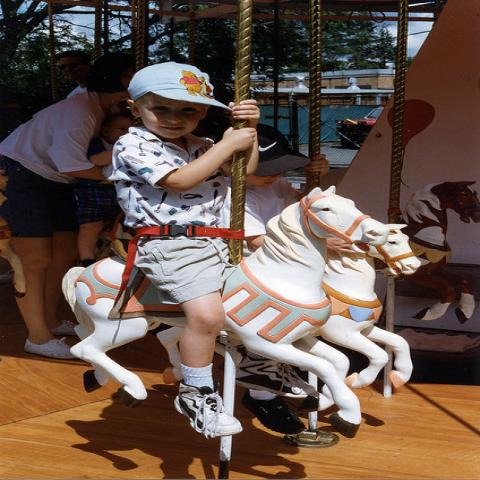car: (334, 107, 384, 150)
